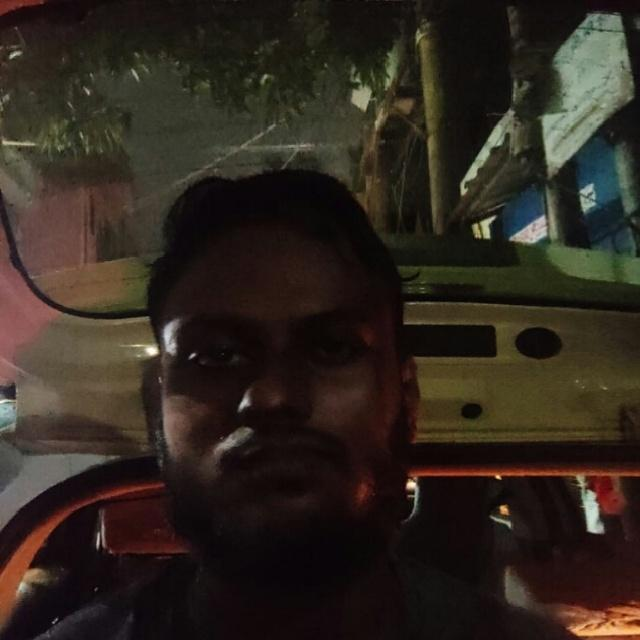Natural: (123, 162, 446, 606)
